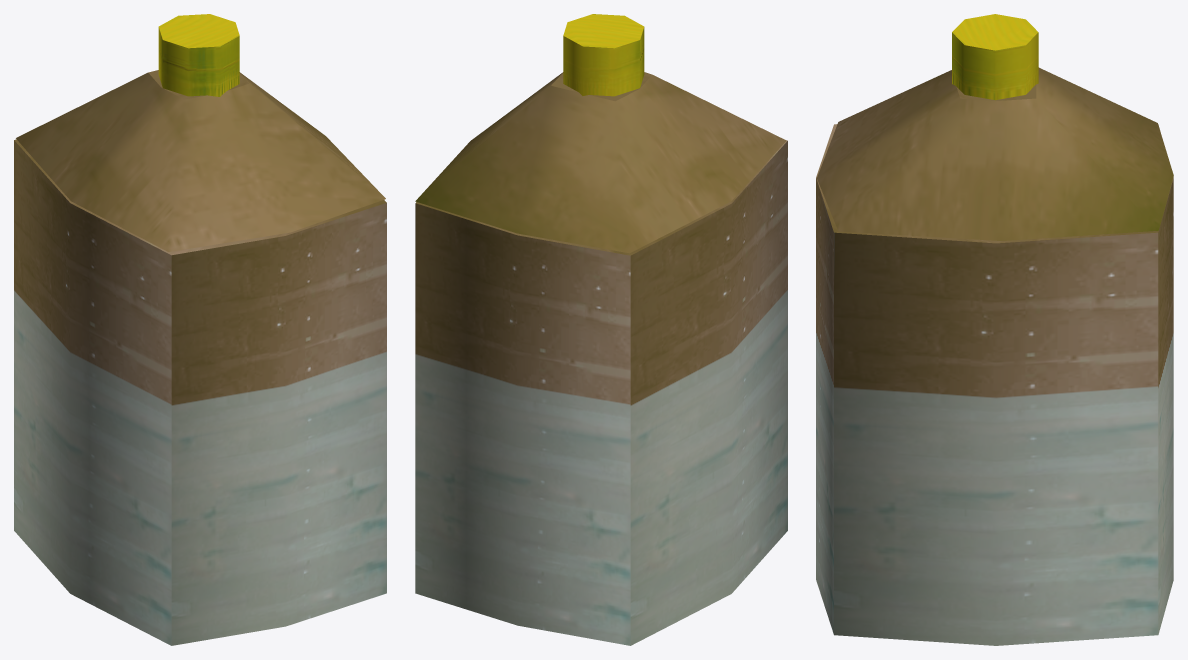
The model's file is plastic_bottle.obj.
3 views of the same model, side by side, from view 1: azimuth 30°, elevation 25°; view 2: azimuth 150°, elevation 25°; view 3: azimuth 270°, elevation 25° (orthographic). The views are drawn at different scales.
Visible parts, largest first — view 1: Cylinder01; view 2: Cylinder01; view 3: Cylinder01.
Part boxes in pixels (x1,y1,x2,y2): Cylinder01: [14, 14, 386, 645]; Cylinder01: [415, 14, 787, 645]; Cylinder01: [816, 14, 1173, 645].
Size of the model in its own units: 32.89 by 64.45 by 38.14.
